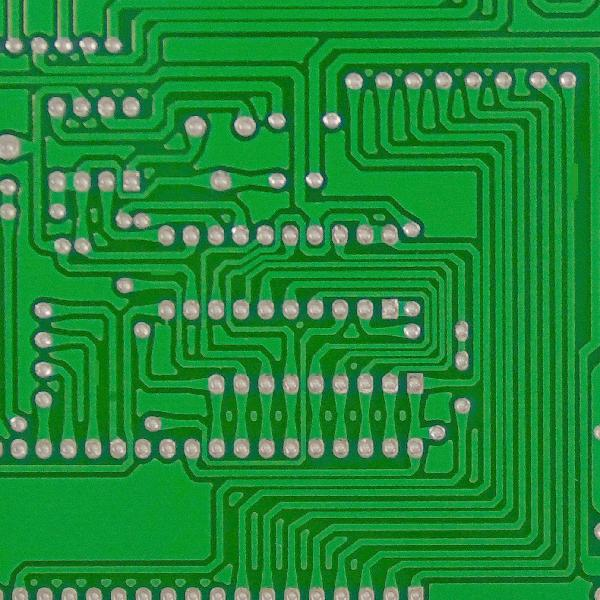spur: (564, 157, 583, 208), (88, 355, 105, 393)
